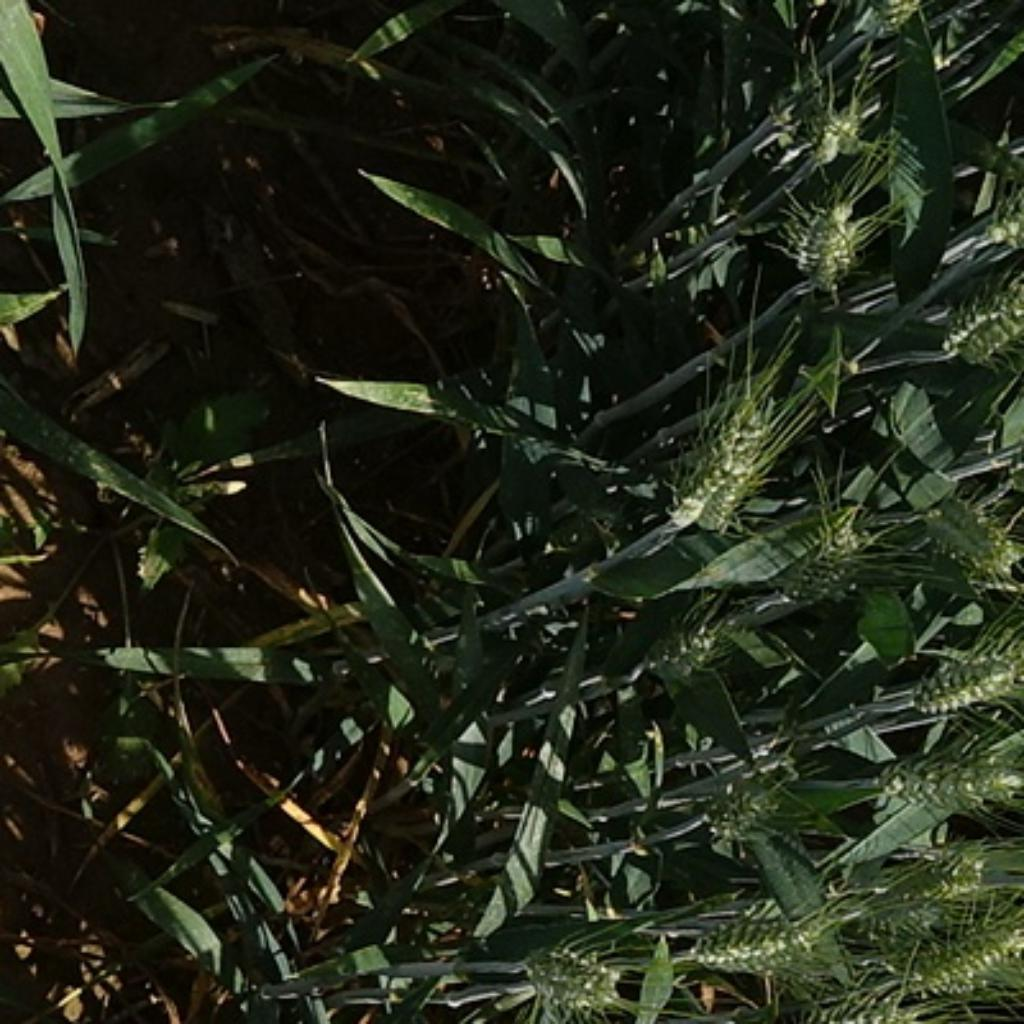0-0: (655, 389, 785, 537), (875, 737, 1024, 819), (683, 908, 837, 980), (696, 737, 801, 842), (784, 493, 882, 603), (913, 483, 1021, 581), (775, 186, 870, 291), (863, 857, 995, 927), (924, 925, 1024, 1005), (524, 936, 625, 1013), (646, 610, 737, 688), (793, 96, 877, 176), (935, 272, 1014, 353), (918, 660, 1024, 715), (968, 311, 1024, 364)
